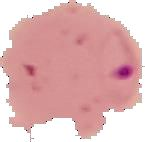parasitized: (89, 26, 139, 90)
